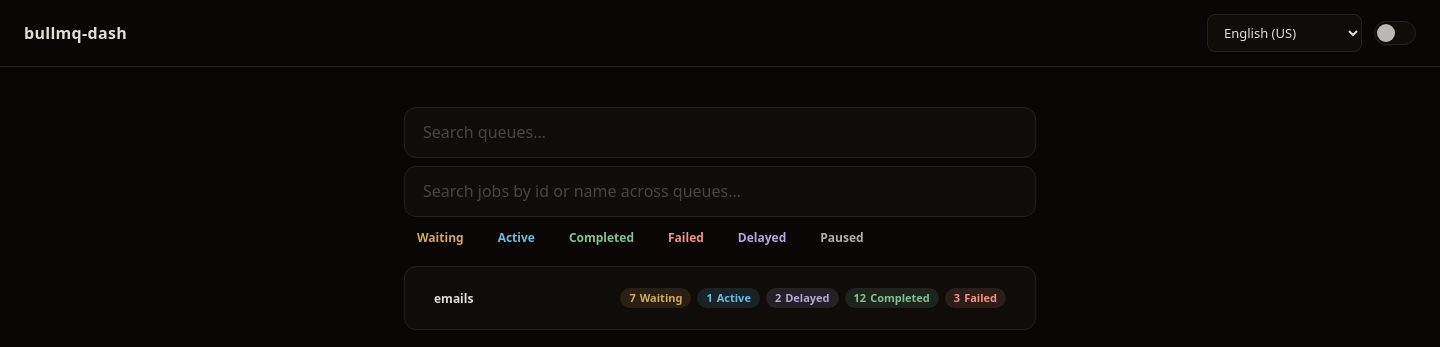
Test: LocaleSelect › switches the dashboard language and remembers the choice
expect the text "emails" is shown: met, box [434,290,473,306]
expect the button "Waiting" is shown: met, box [404,225,477,250]
Select "Deutsch" in the dropdown at (1284, 33), box [1207,14,1362,52]
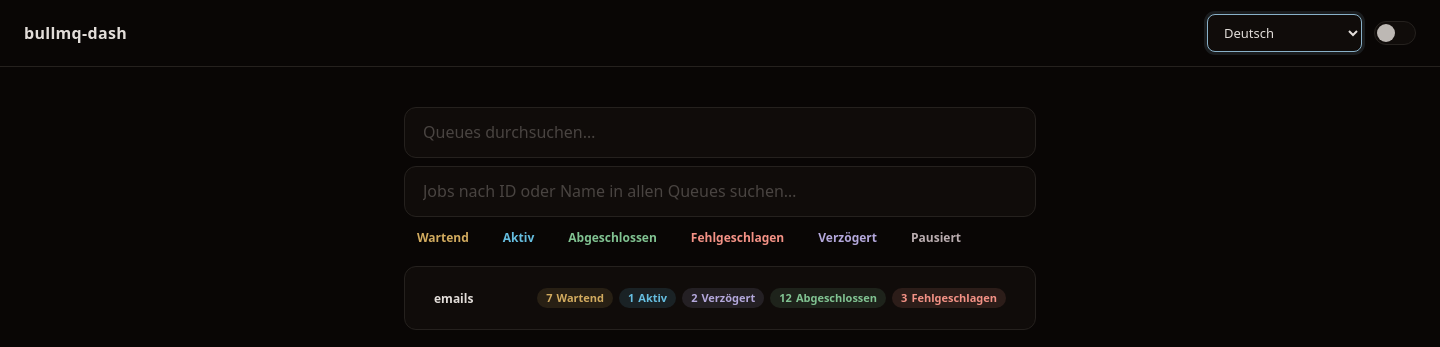
expect the button "Wartend" is shown: met, box [404,225,482,250]
